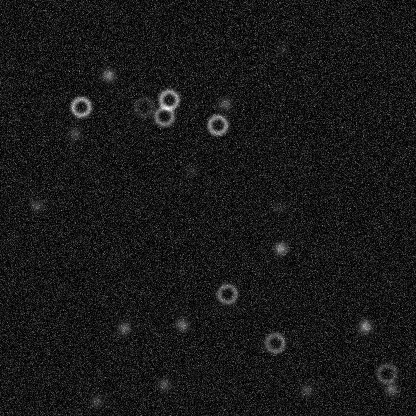Ring: (152, 103, 176, 127), (262, 330, 286, 354), (156, 87, 180, 111), (131, 94, 155, 118), (205, 112, 229, 136), (68, 94, 92, 118), (215, 281, 239, 305), (374, 361, 398, 385)
Spot: (28, 197, 44, 213), (100, 66, 116, 82), (298, 382, 314, 398), (217, 95, 233, 111), (181, 162, 197, 178), (115, 319, 131, 335), (88, 392, 104, 408), (174, 316, 190, 332), (273, 40, 289, 56), (356, 318, 372, 334), (383, 381, 399, 397), (155, 376, 171, 392), (66, 125, 82, 141), (271, 198, 287, 214), (272, 240, 288, 256)
